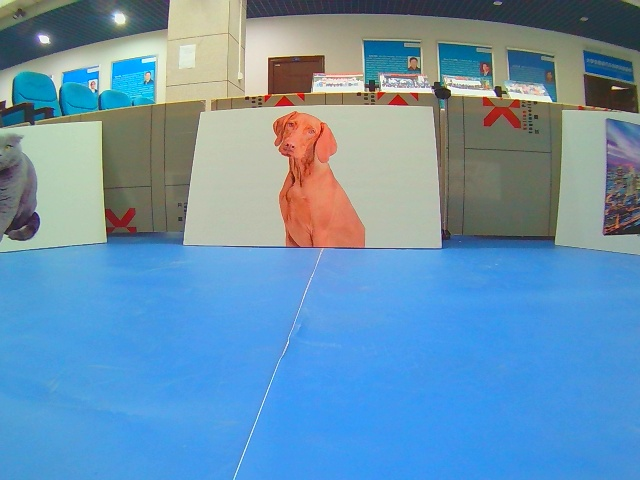pet: (181, 106, 446, 251)
